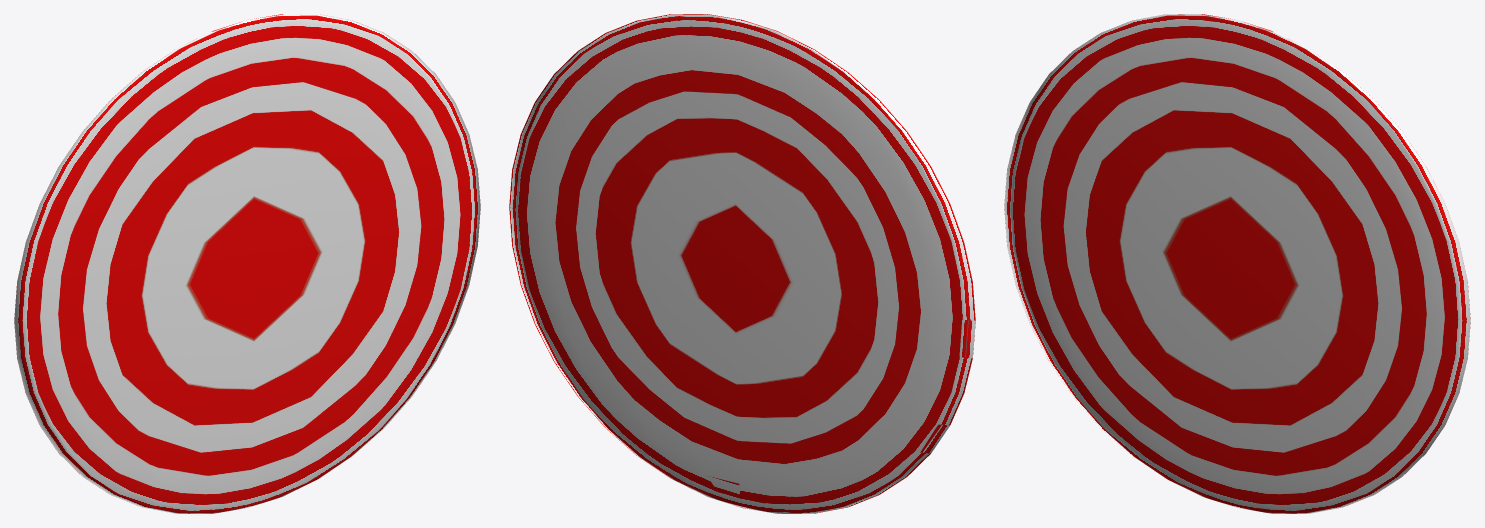
File: Target_New.fbx
The picture shows the model from 3 angles, left to right: view 1: azimuth 30°, elevation 25°; view 2: azimuth 150°, elevation 25°; view 3: azimuth 330°, elevation 25°; orthographic projection.
Parts seen in each view (by area): view 1: pSphere1; view 2: pSphere1; view 3: pSphere1.
Boxes of the visible parts, x1=… form: pSphere1: x1=14, y1=14, x2=480, y2=513; pSphere1: x1=509, y1=14, x2=975, y2=513; pSphere1: x1=1004, y1=14, x2=1470, y2=513.
Bounding box in the file's own units: 2 × 2 × 0.1033.
